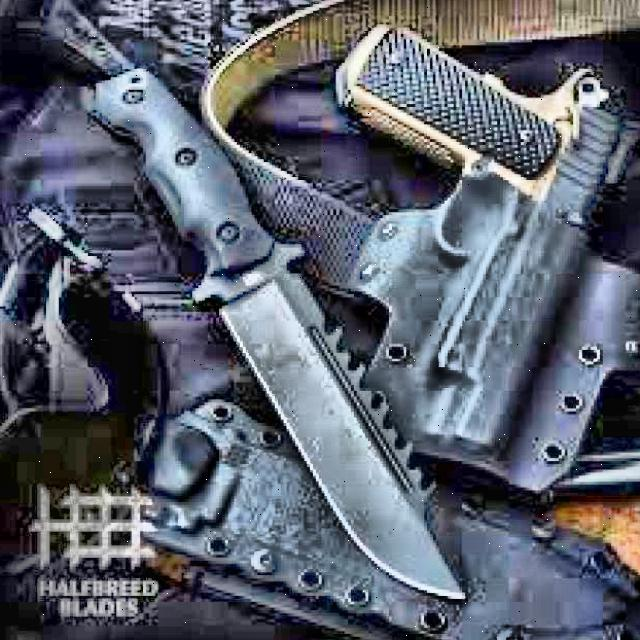knife: (97, 65, 475, 596)
